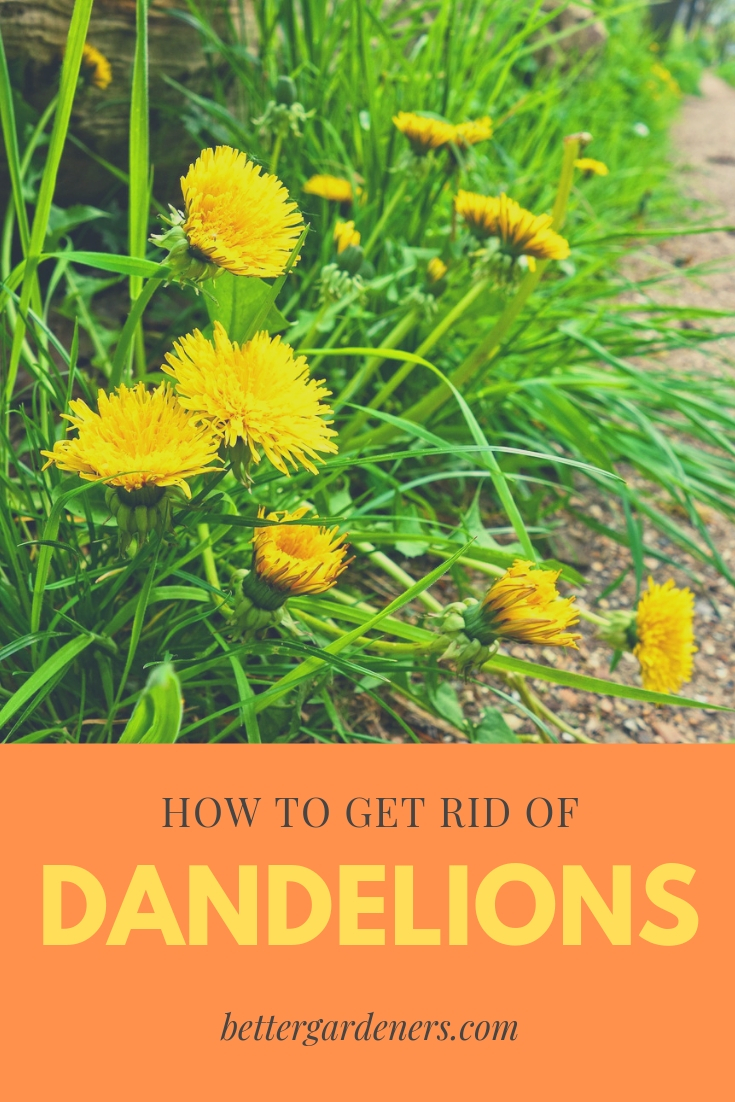dandelion: (181, 315, 356, 463), (151, 147, 324, 285), (65, 374, 225, 508), (232, 491, 372, 588), (622, 595, 714, 719), (452, 182, 583, 261), (487, 556, 591, 642)
